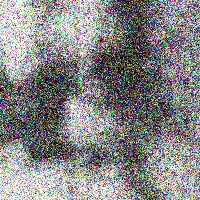patches: (98, 1, 163, 131), (0, 56, 78, 159), (81, 140, 143, 198)
